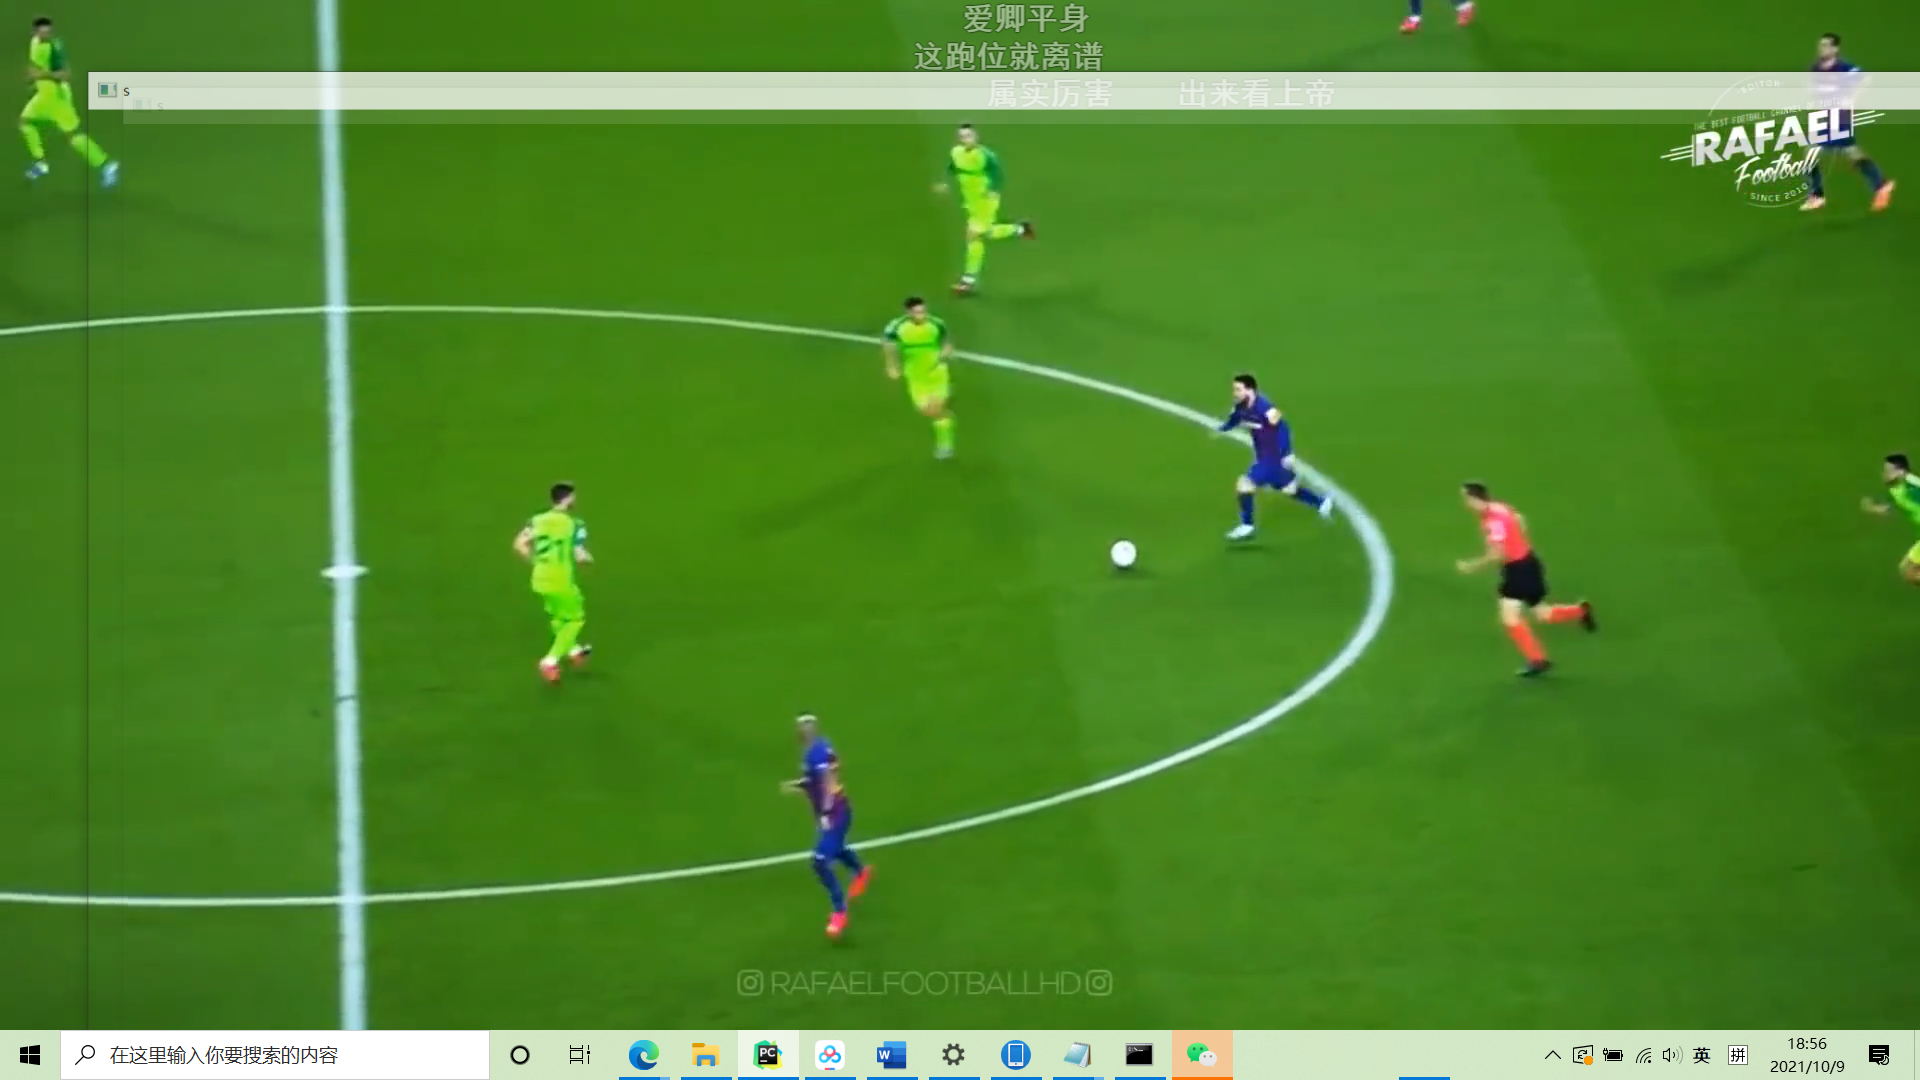ft: (1108, 539, 1139, 570)
